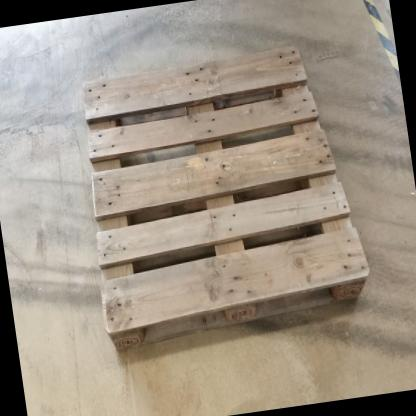BoxFace: (81, 38, 374, 360)
